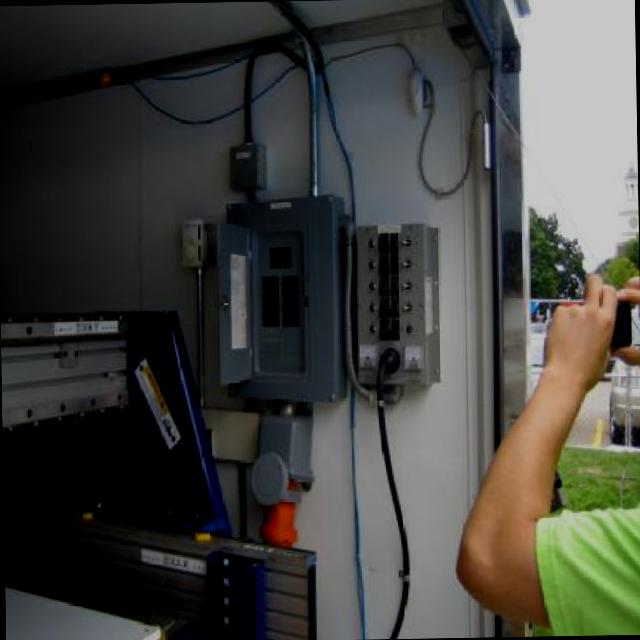Person: (440, 226, 632, 626)
